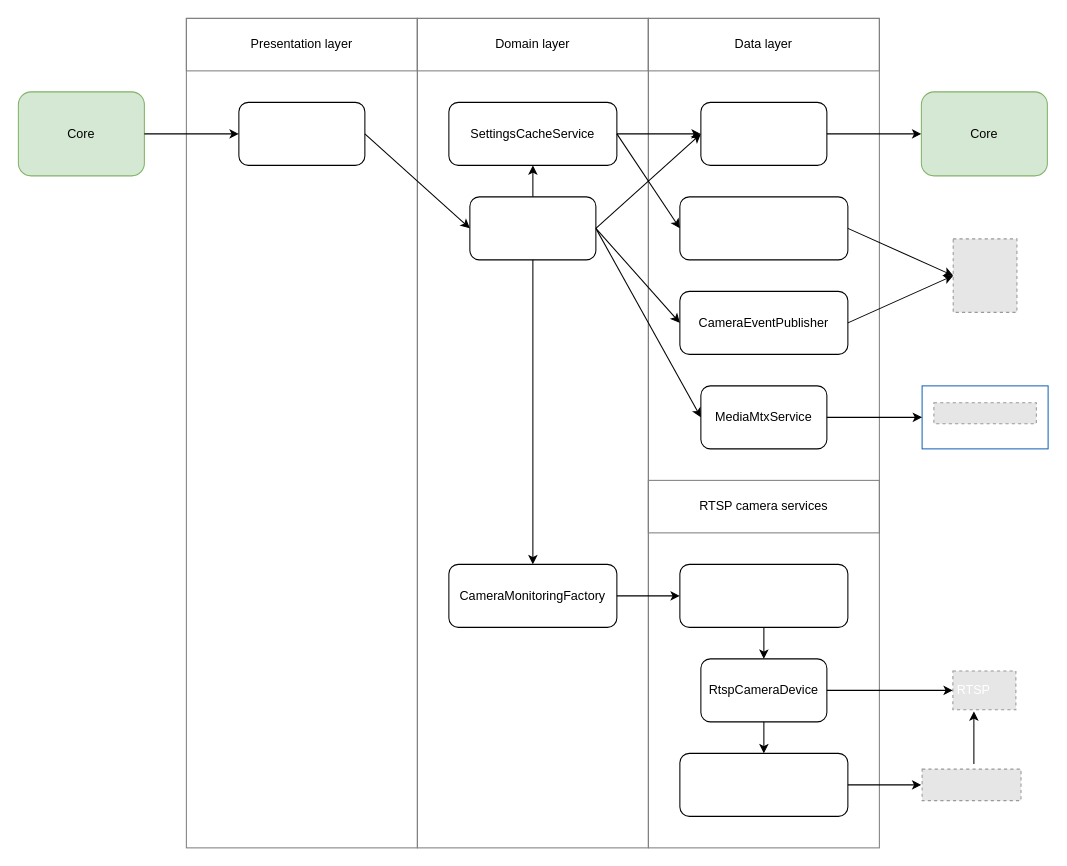
Image size: 1067x866. Some labels were removed from this diagram. Grey dashed boxes stand in for pictures. The shapes that lost their labels are listed below. From the top down, each one's centre as x and y in pixels, then its label:
At [301,133]: "CamerasController".
At [763,133]: "CoreClient".
At [532,228]: "CameraService".
At [763,228]: "SettingsEventConsumer".
At [763,595]: "RtspCameraMonitoring".
At [763,784]: "FfmpegSnapshotService".
